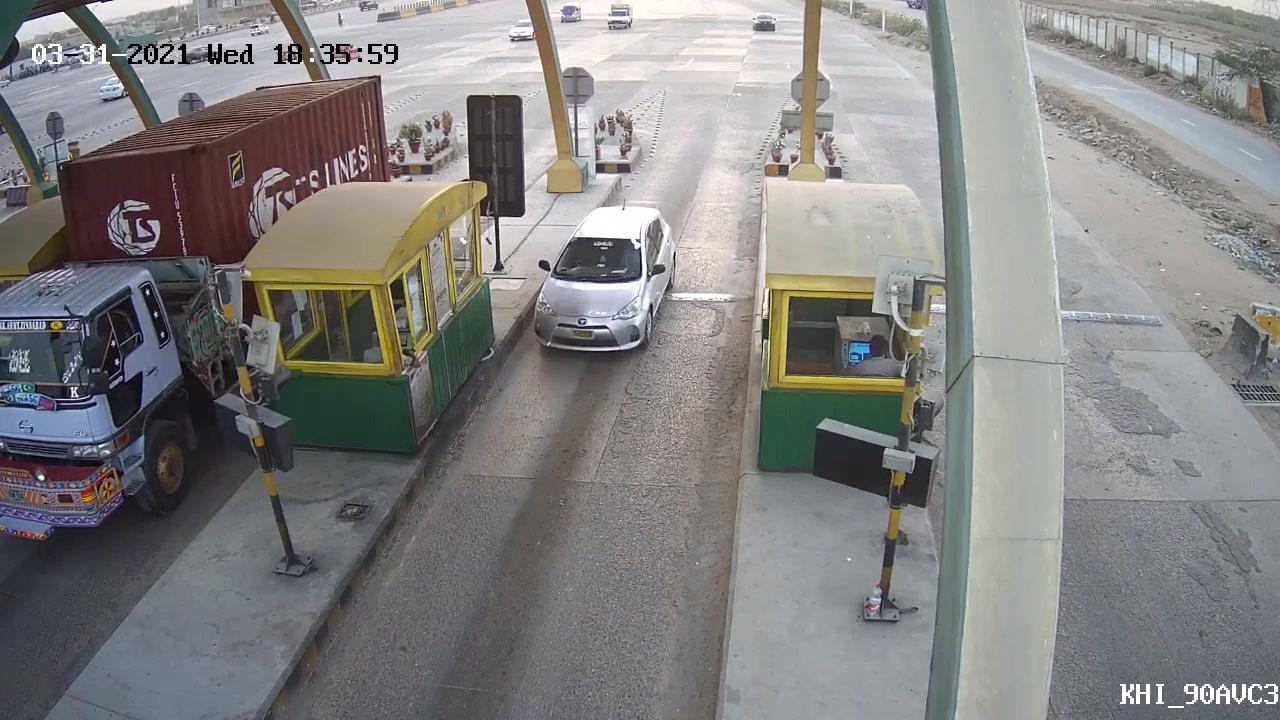F1: (526, 190, 677, 358)
